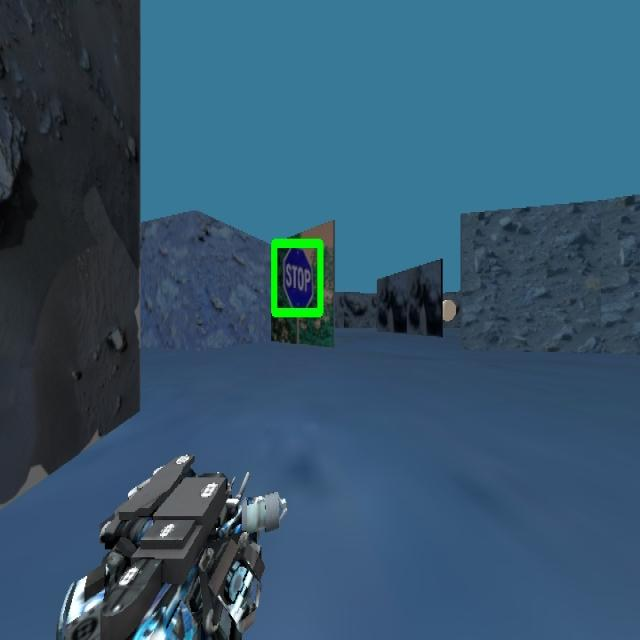Circle: (430, 286, 460, 338)
Stop_Sign: (270, 236, 324, 319)
